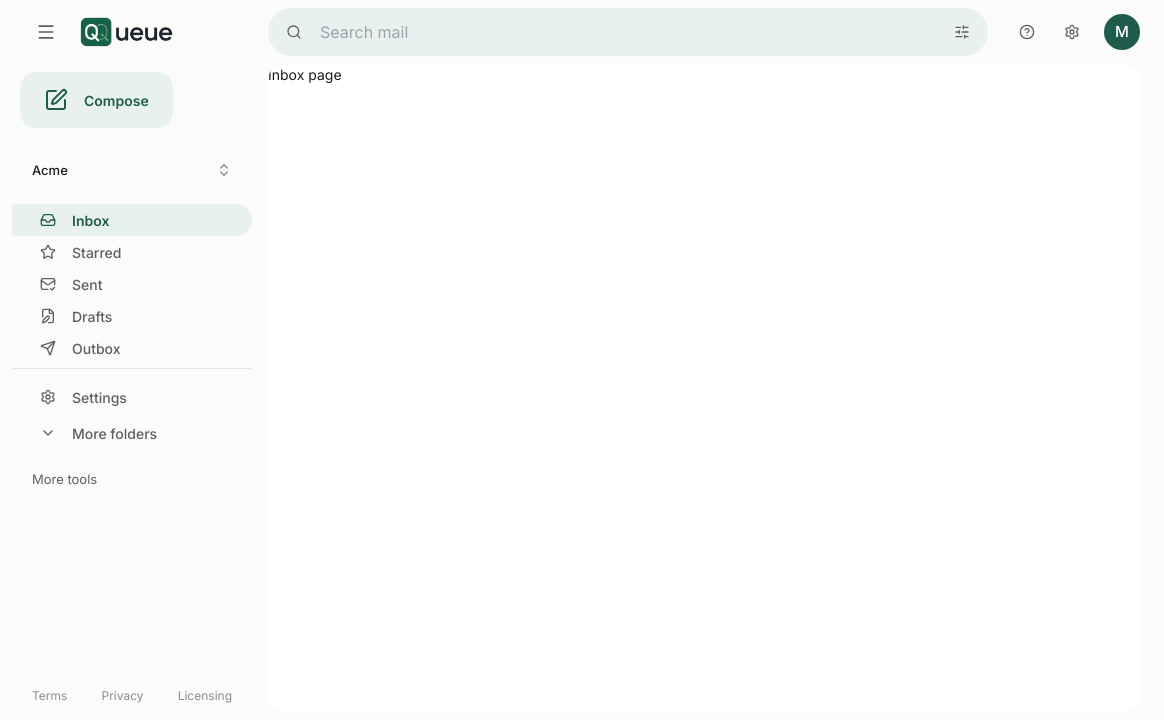
it: DashboardLayout › reveals extra tools on request and lets everyday mail stay uncluttered
Expected: the link "Campaigns" is not shown
Click the button "More tools". click: (132, 479)
box: top-left (24, 457), bottom-right (240, 501)
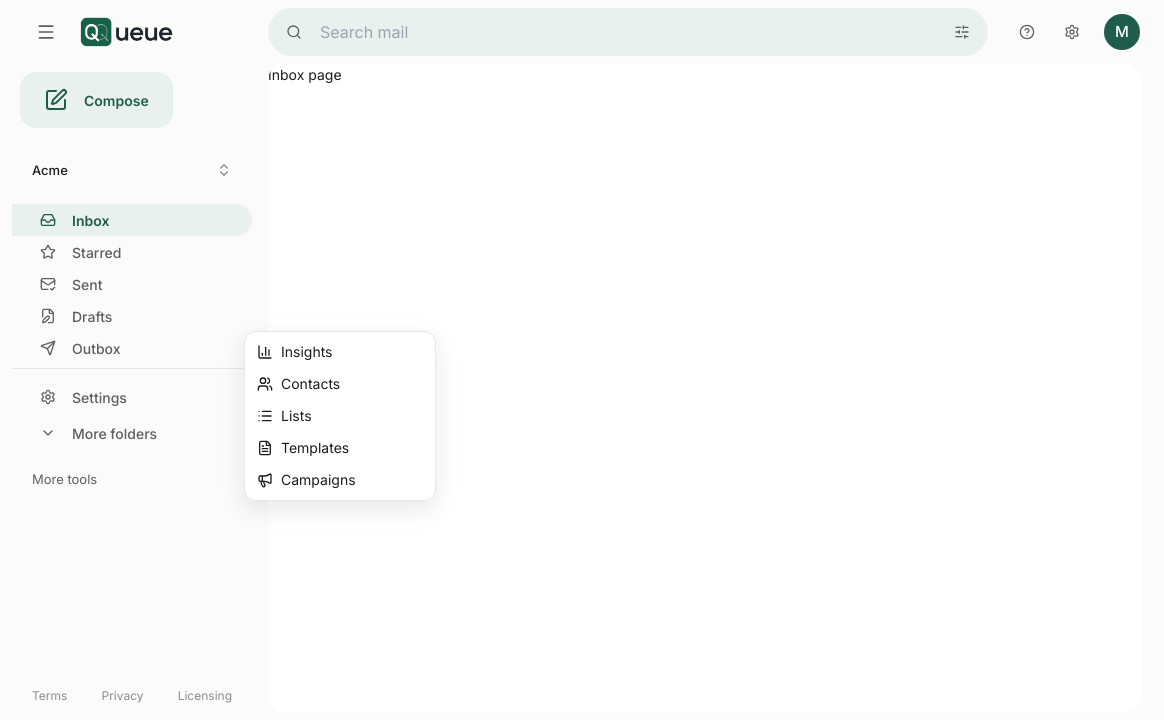
Expected: the menu item "Campaigns" is shown, top-left (257, 471), bottom-right (356, 488)
Press Escape
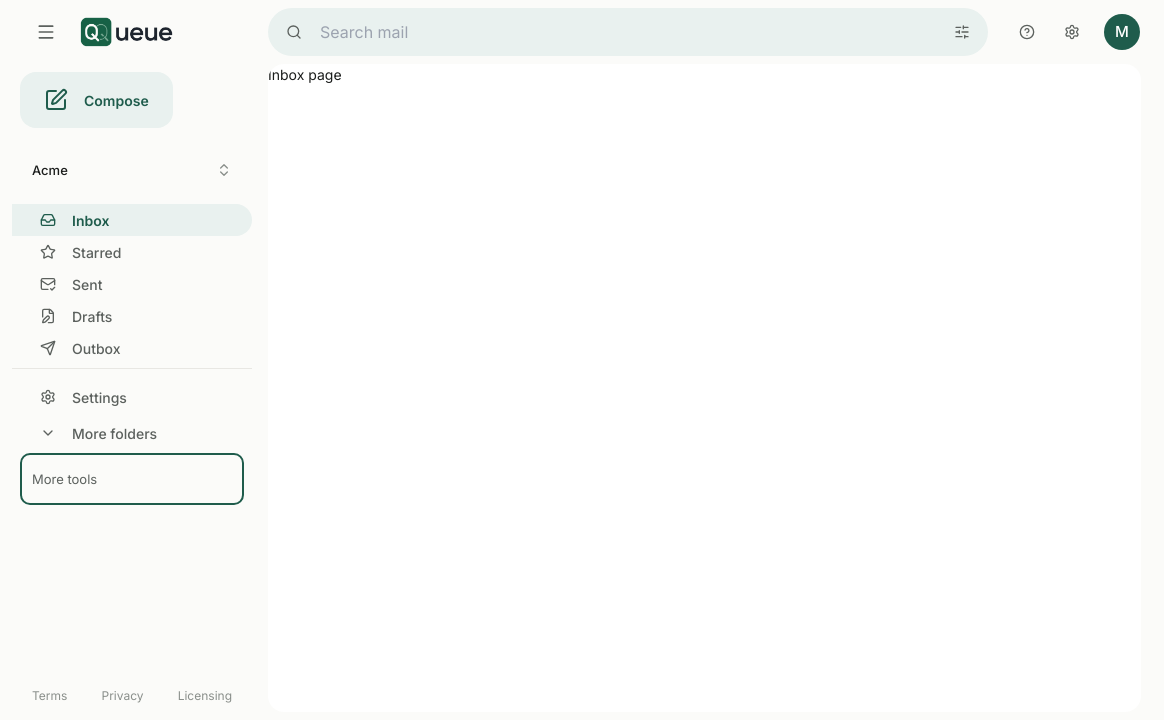
Expected: the menu item "Campaigns" is gone
